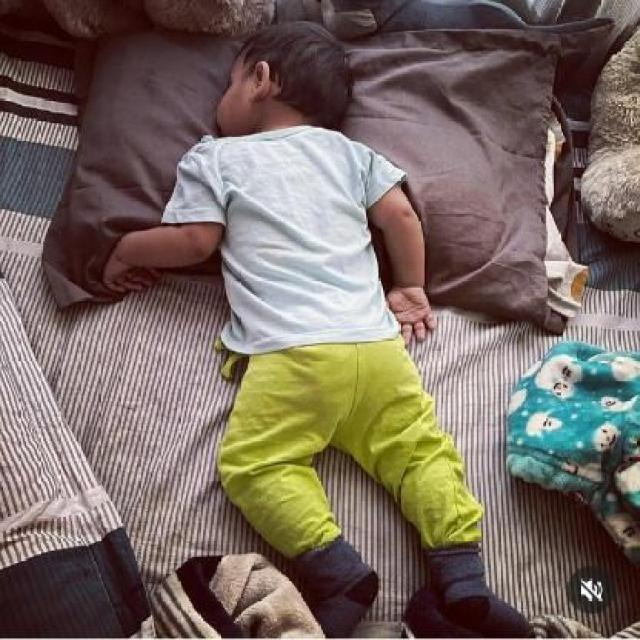baby: (101, 15, 532, 631)
